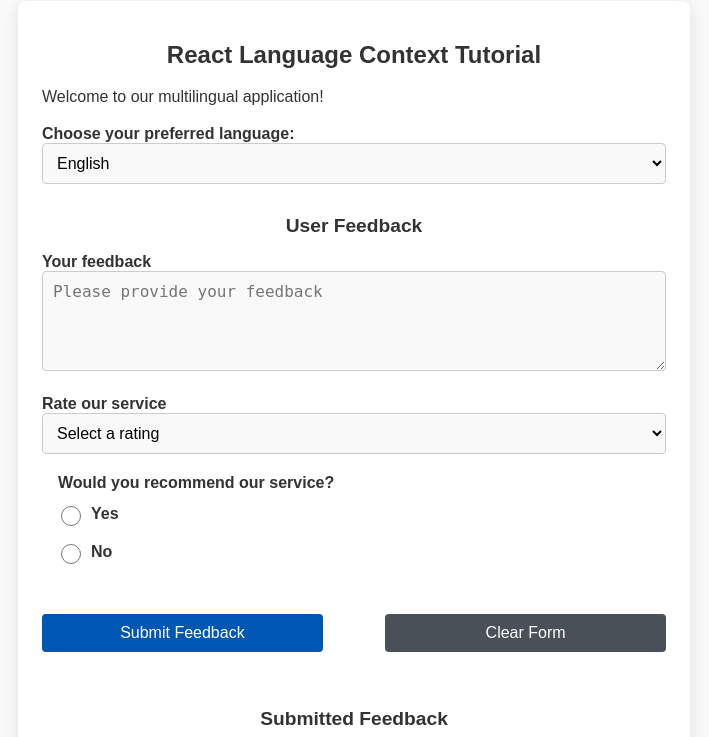
Test: submits valid feedback and exposes the result as a status message
The width and height of the screenshot is (709, 737).
Expected: the heading "User Feedback" is shown, x1=286 y1=215 x2=422 y2=236
In the text box labelled "Your feedback": x=354, y=321 x1=42 y1=271 x2=666 y2=371, type "Helpful example"
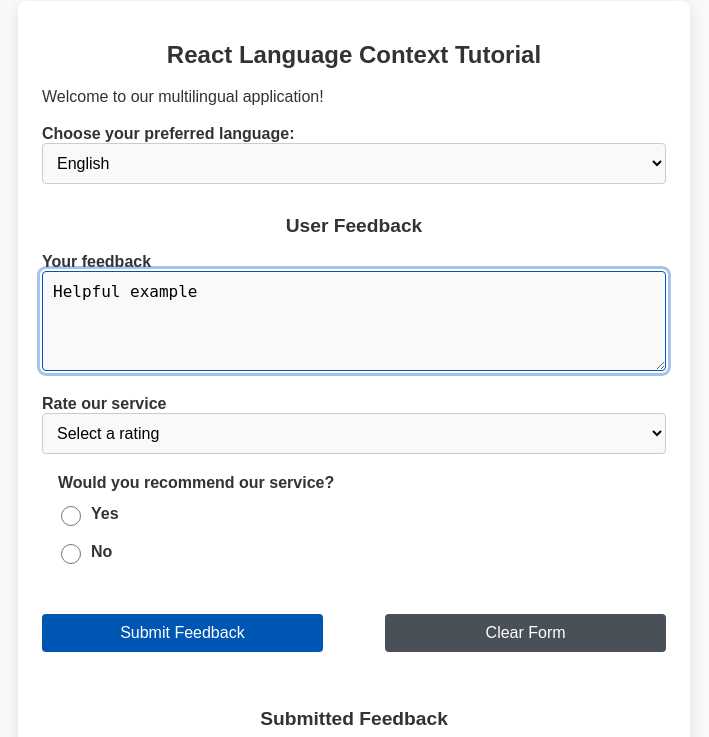
Select "Good" in the dropdown labelled "Rate our service": x=354, y=434 x1=42 y1=413 x2=666 y2=454
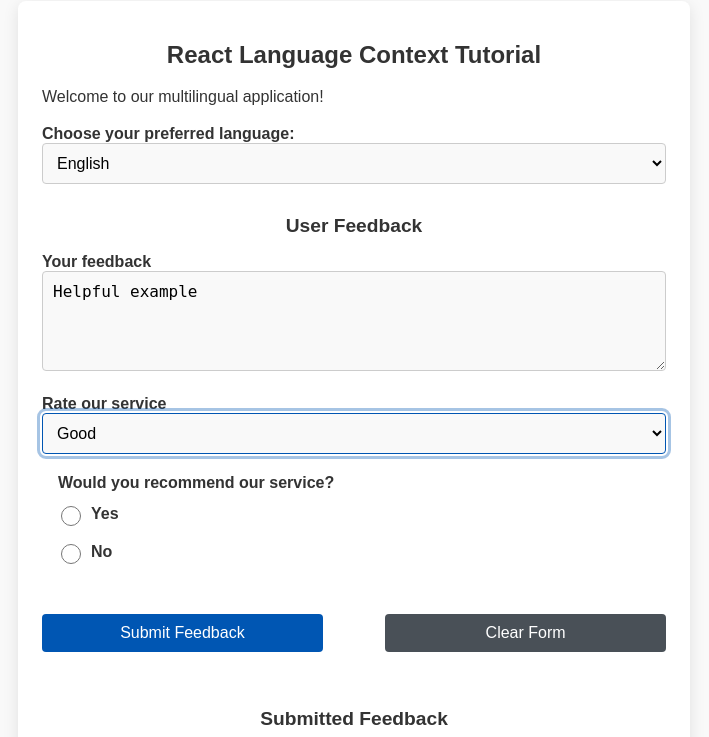
Click the radio button labelled "Yes": x=71, y=516 x1=61 y1=506 x2=81 y2=526
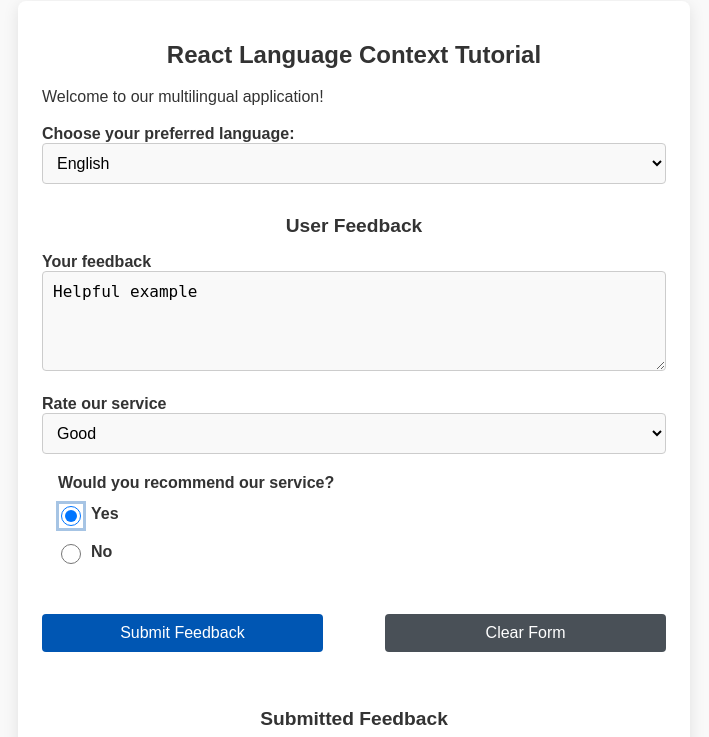
Click the button "Submit Feedback": x=182, y=633 x1=42 y1=614 x2=323 y2=652
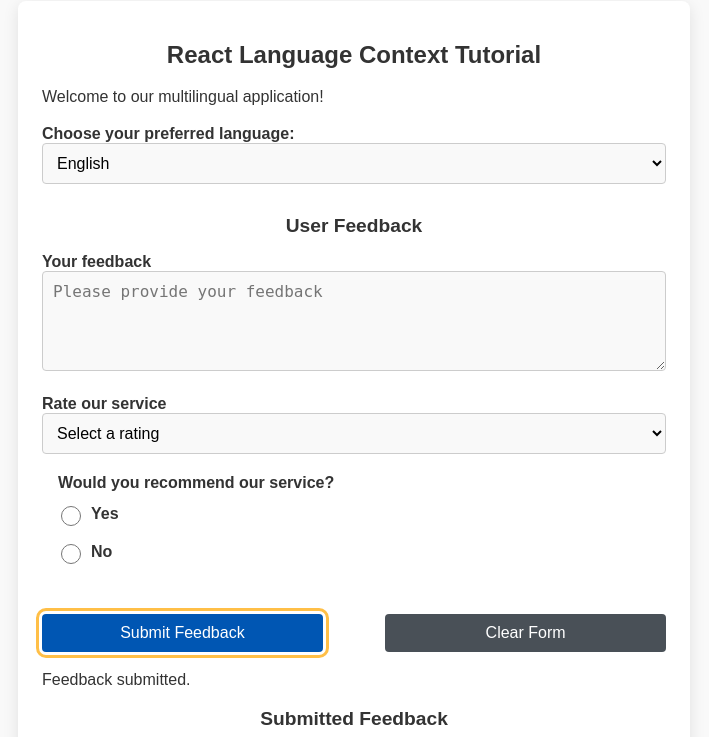
Result: the message reads "Feedback submitted." at x1=42 y1=671 x2=190 y2=688
Select "Spanish" in the dropdown labelled "Choose your preferred language:": x=354, y=164 x1=42 y1=143 x2=666 y2=184
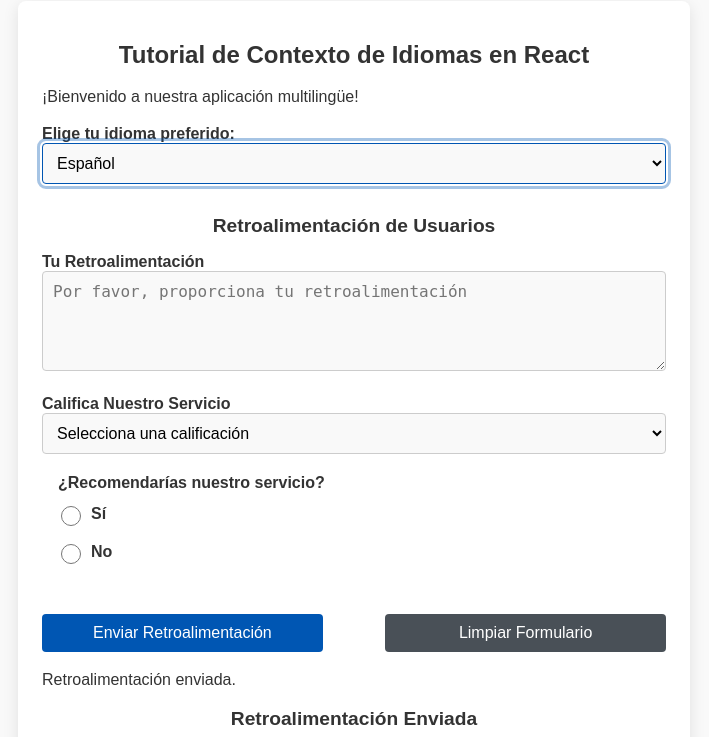
Result: the message reads "Retroalimentación enviada." at x1=42 y1=671 x2=236 y2=688
